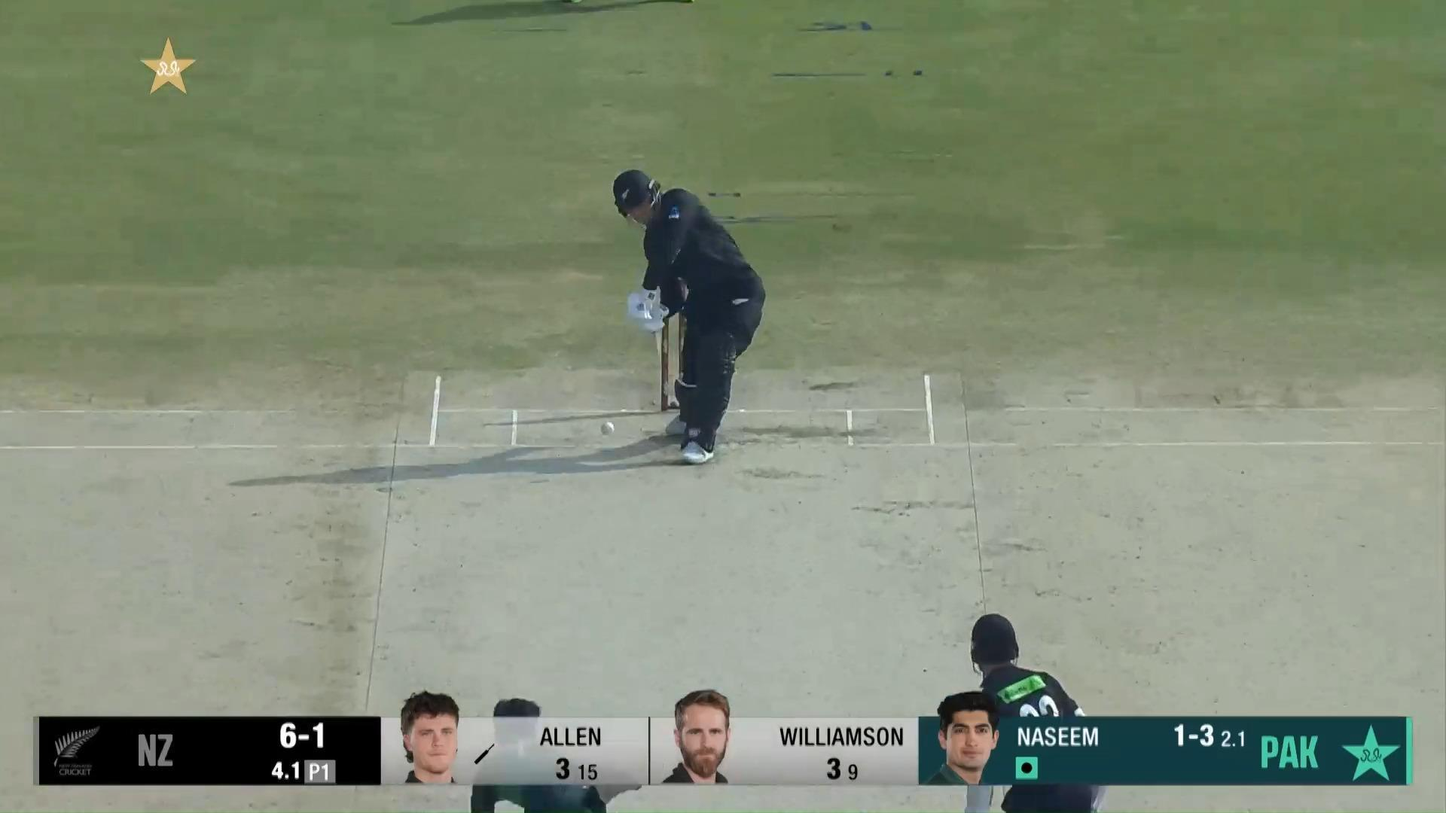BM 1: (612, 168, 766, 466)
BO: (466, 696, 644, 813)
